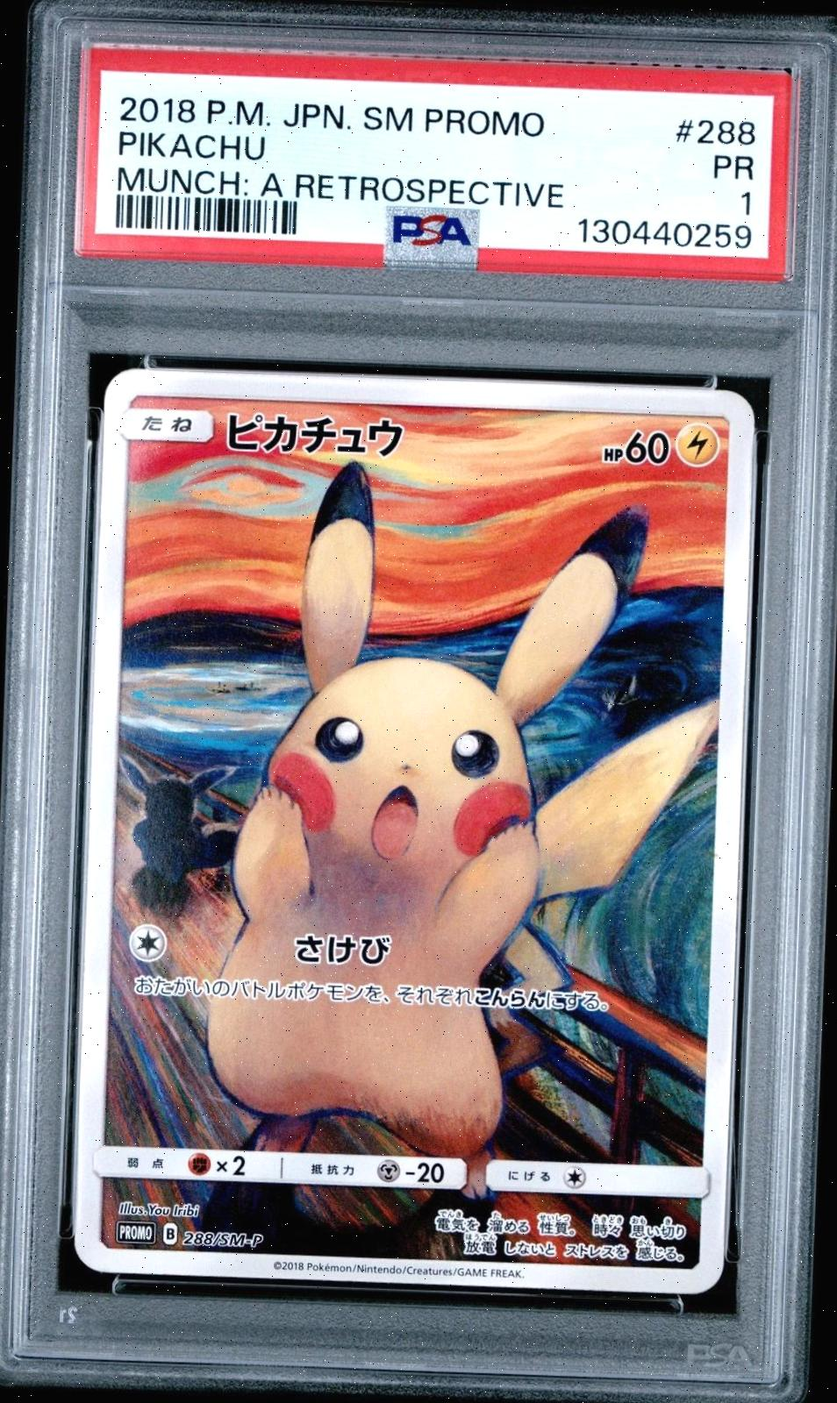card-2UtV: (73, 368, 755, 1295)
